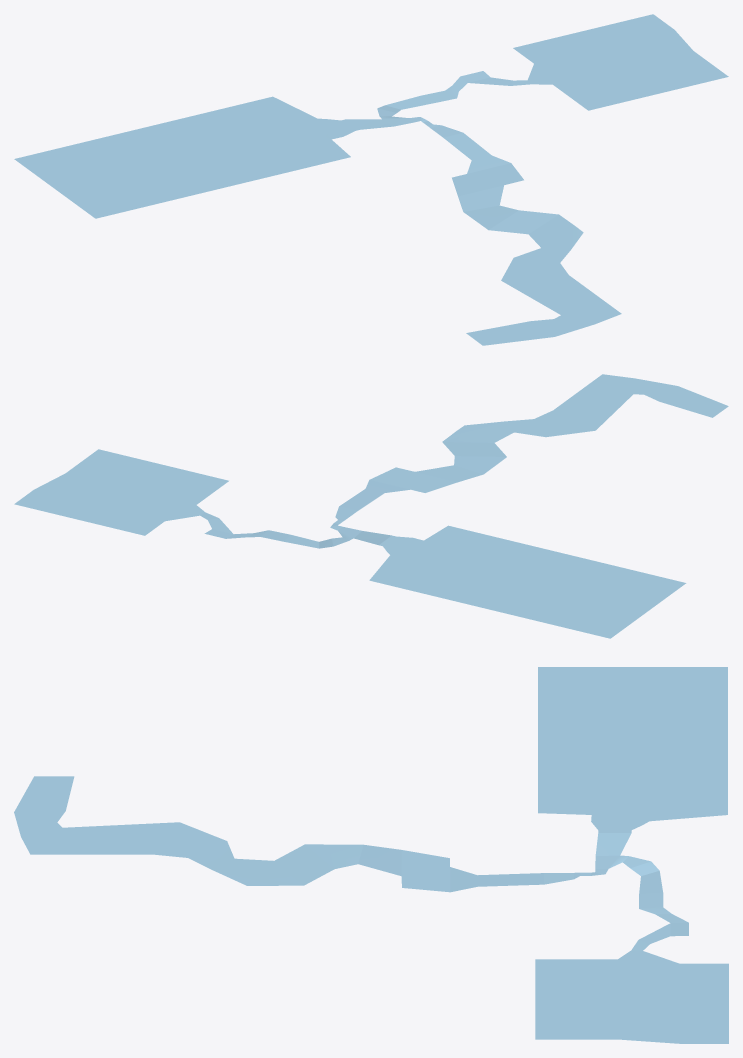
File: River.fbx
The picture shows the model from 3 angles, top to bottom: view 1: azimuth 30°, elevation 25°; view 2: azimuth 150°, elevation 25°; view 3: azimuth 270°, elevation 25°; orthographic projection. The views are drawn at different scales.
Parts seen in each view (by area): view 1: River.004, River, River.002, River.005, River.003, River.001; view 2: River.004, River, River.002, River.005, River.003, River.001; view 3: River.004, River, River.002, River.003, River.005, River.001.
Boxes of the visible parts, box(x1,y1,x2,y2) form: River.004: box(14, 96, 350, 218); River: box(513, 14, 728, 110); River.002: box(452, 174, 621, 345); River.005: box(420, 117, 523, 184); River.003: box(377, 64, 552, 119); River.001: box(318, 117, 420, 139); River.004: box(369, 525, 686, 638); River: box(14, 449, 228, 535); River.002: box(411, 374, 728, 492); River.005: box(330, 467, 414, 527); River.003: box(165, 505, 353, 548); River.001: box(330, 525, 423, 554); River.004: box(538, 667, 727, 821); River: box(535, 959, 728, 1043); River.002: box(14, 776, 449, 885); River.003: box(609, 855, 688, 963); River.005: box(401, 867, 604, 892); River.001: box(591, 815, 648, 874).
Size of the model in its own units: 124026 by 2121 by 103143.
